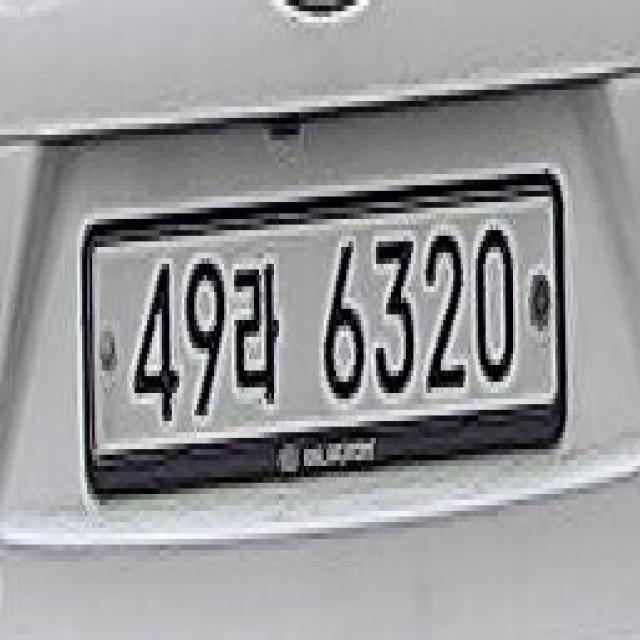0: (472, 216, 520, 396)
2: (423, 216, 470, 410)
3: (372, 220, 419, 408)
4: (133, 248, 180, 436)
6: (321, 222, 368, 412)
9: (182, 246, 234, 428)
la: (233, 230, 294, 420)
license_plate: (67, 200, 571, 472)
